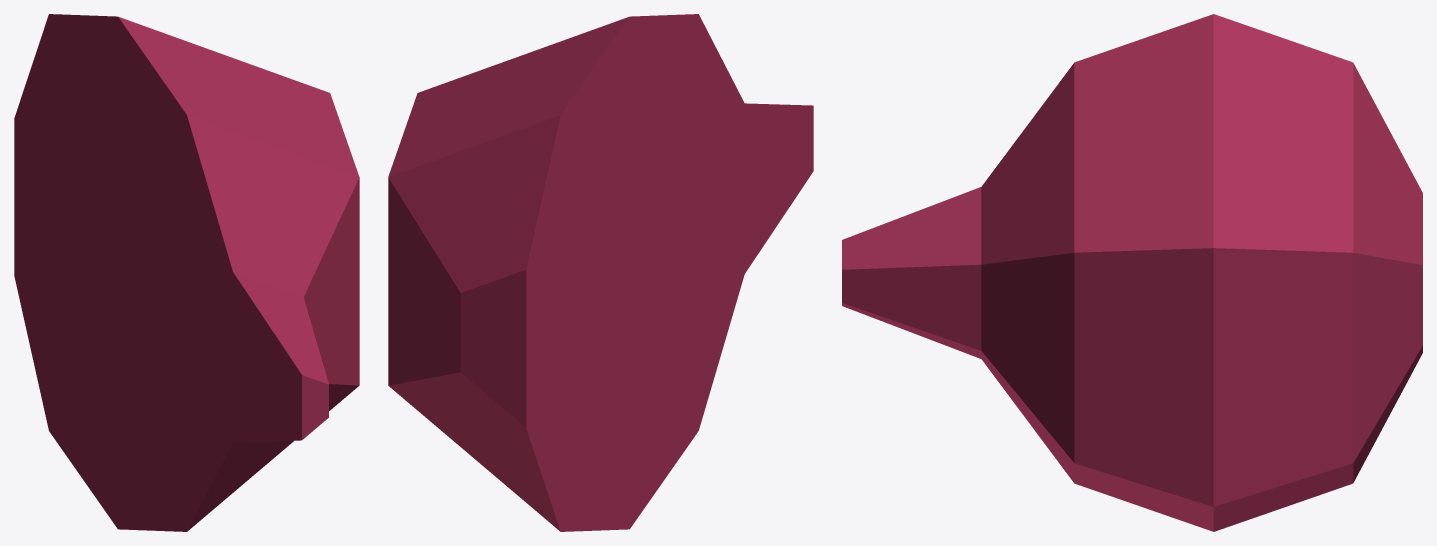
Rendered from redOnionHalf.obj.
3 renders of one model, left to right at view 1: azimuth 30°, elevation 25°; view 2: azimuth 150°, elevation 25°; view 3: azimuth 270°, elevation 25°, orthographic.
Visible parts, largest first — view 1: onionHalf; view 2: onionHalf; view 3: onionHalf.
Part boxes in pixels (x1,y1,x2,y2): onionHalf: (14,14,359,531); onionHalf: (388,14,813,531); onionHalf: (842,14,1422,531).
Size of the model in its own units: 0.1065 by 0.246 by 0.25.
